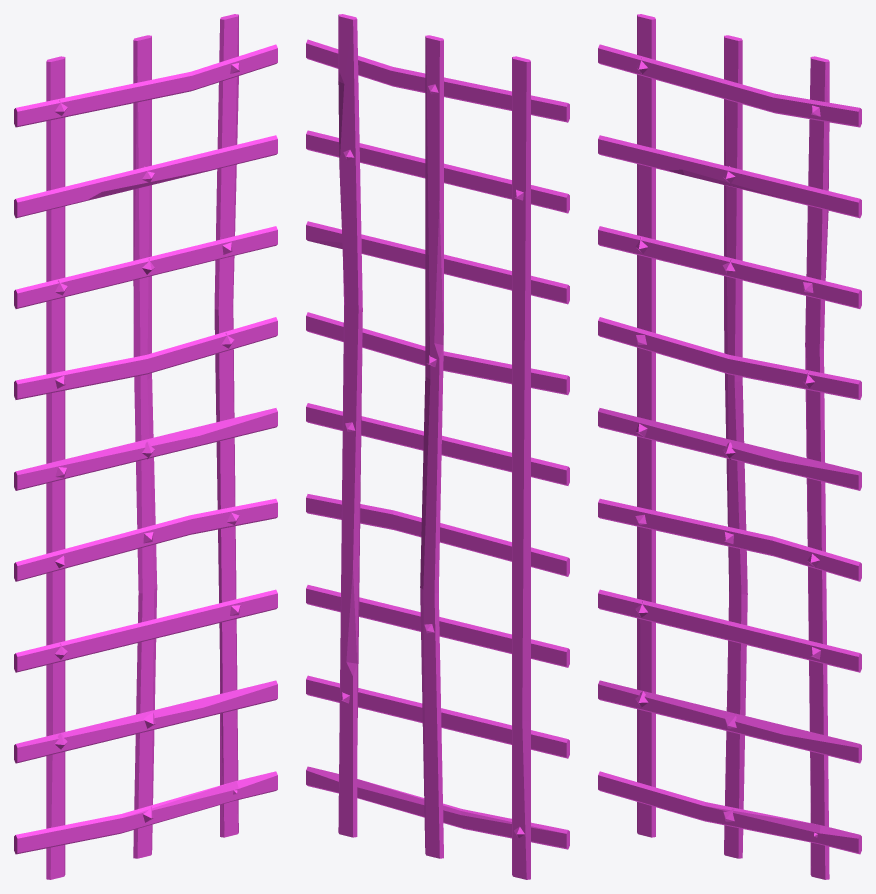
The model's file is SM_Wall_Bars_1x3m_Fantasy.fbx.
The picture shows the model from 3 angles, left to right: view 1: azimuth 30°, elevation 25°; view 2: azimuth 150°, elevation 25°; view 3: azimuth 330°, elevation 25°; orthographic projection.
Visible parts, largest first — view 1: SM_Wall_Bars_1x3m_Fantasy; view 2: SM_Wall_Bars_1x3m_Fantasy; view 3: SM_Wall_Bars_1x3m_Fantasy.
Boxes of the visible parts, <box> form: SM_Wall_Bars_1x3m_Fantasy: <box>14,14,277,879</box>; SM_Wall_Bars_1x3m_Fantasy: <box>306,14,569,879</box>; SM_Wall_Bars_1x3m_Fantasy: <box>598,14,861,879</box>.
Bounding box in the file's own units: 1 × 3 × 0.0848.
